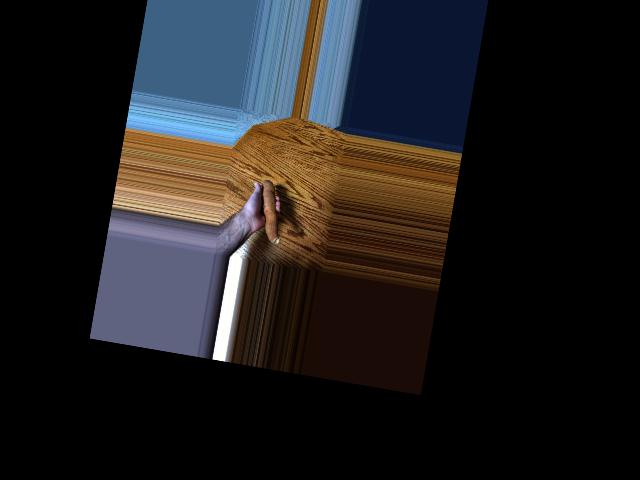sweet_potato: (253, 178, 279, 243)
